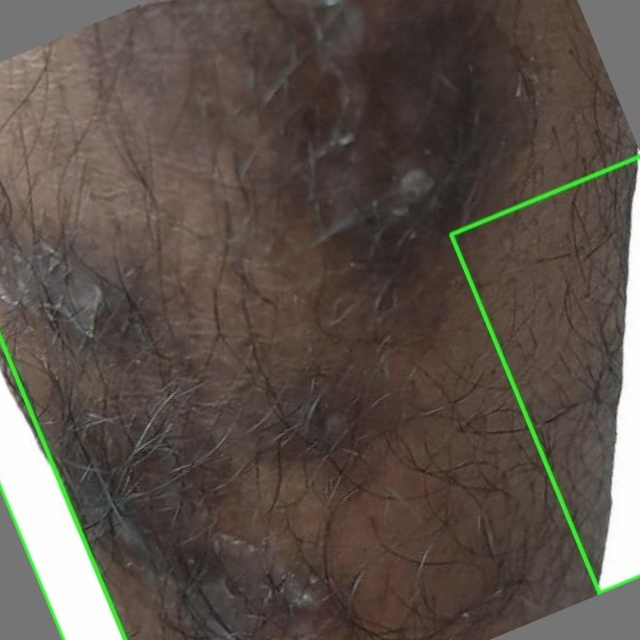Eczema: (450, 156, 639, 593)
